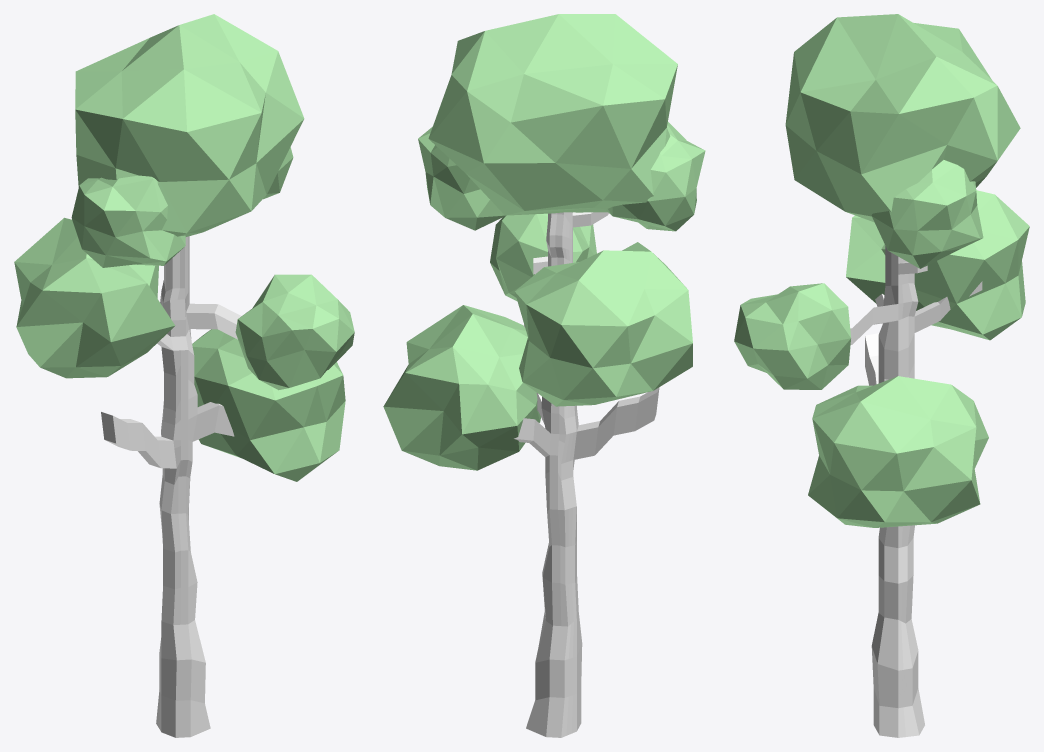
Rendered from birch.fbx.
3 renders of one model, left to right at view 1: azimuth 30°, elevation 25°; view 2: azimuth 150°, elevation 25°; view 3: azimuth 270°, elevation 25°, orthographic.
Visible parts, largest first — view 1: Birch; view 2: Birch; view 3: Birch.
Boxes of the visible parts, x1=… form: Birch: x1=14, y1=14, x2=354, y2=737; Birch: x1=383, y1=14, x2=705, y2=737; Birch: x1=734, y1=14, x2=1029, y2=737.
Size of the model in its own units: 1750 by 3937 by 1483.
